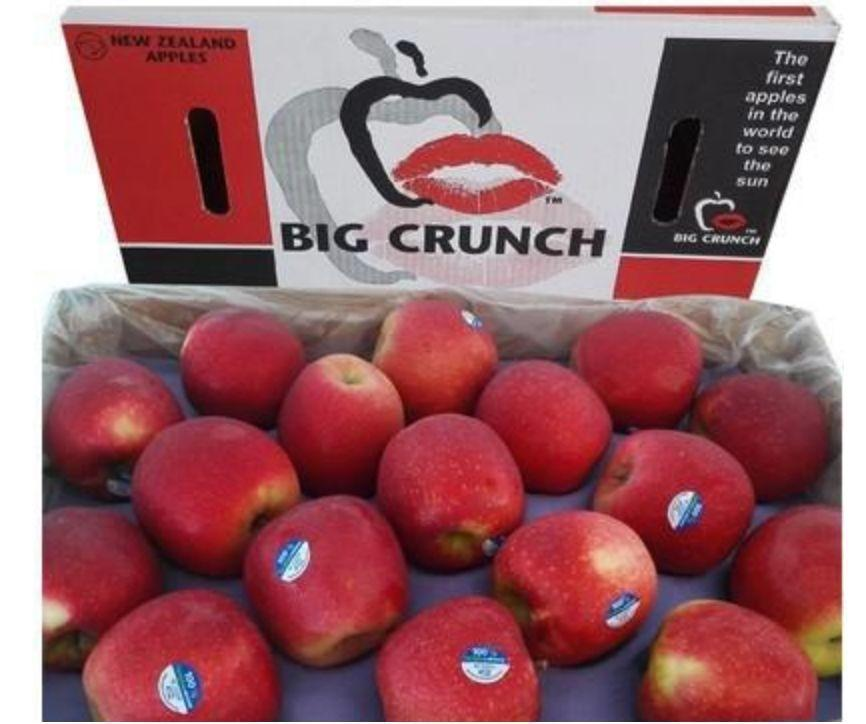apple: (242, 498, 411, 671), (130, 412, 299, 580), (82, 586, 286, 722), (492, 505, 659, 668), (591, 428, 753, 576), (636, 597, 818, 723), (376, 416, 523, 571), (376, 597, 542, 723), (41, 502, 162, 672), (48, 354, 189, 499), (472, 352, 613, 494), (727, 504, 842, 677), (688, 366, 829, 502), (279, 350, 403, 502), (180, 306, 308, 426), (570, 314, 701, 430), (373, 300, 496, 421)
